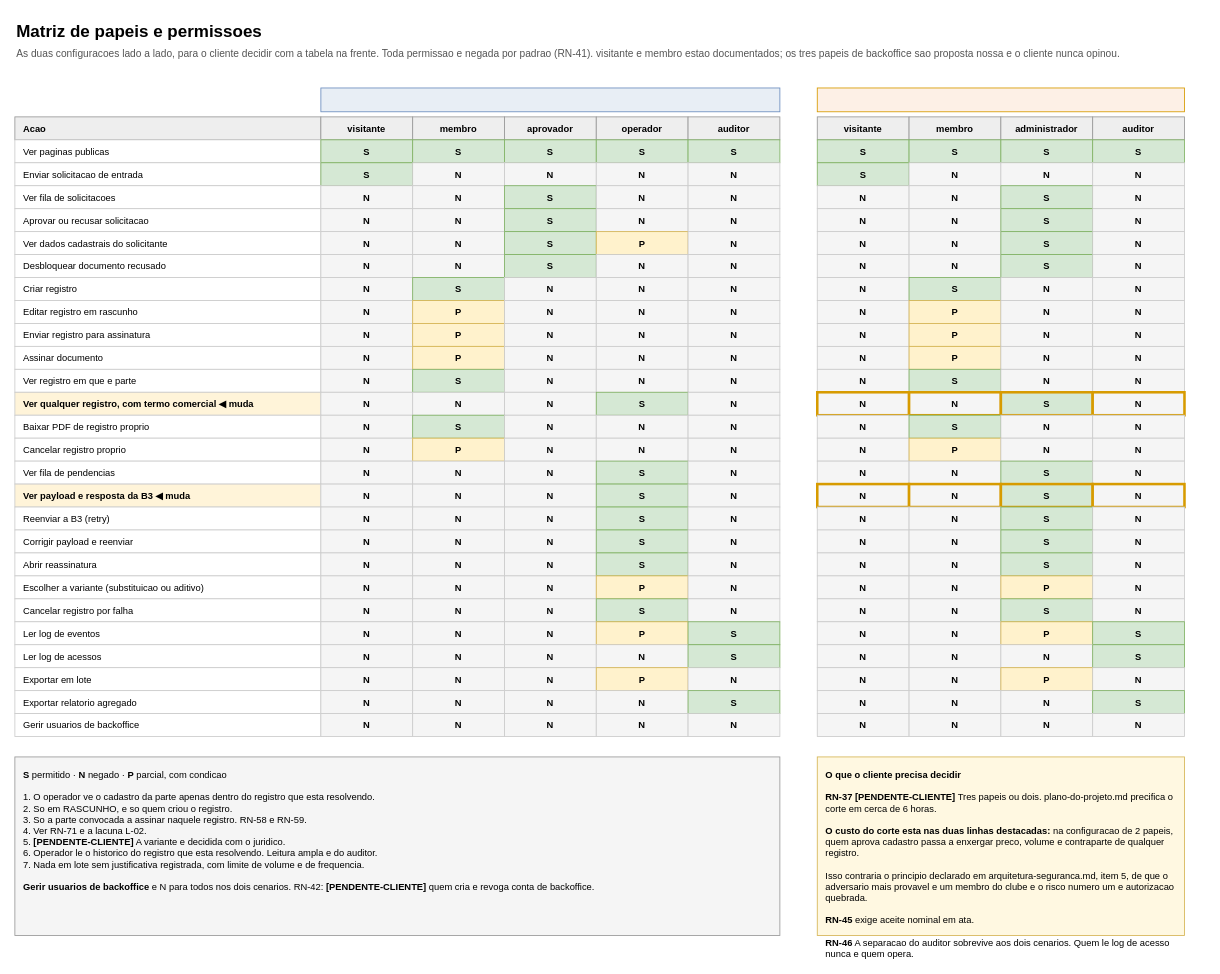
Some shapes in this 1220 by 974 pixel diagram are drawn without their labels. The box of each missing label's shape, as (x1, y1, x2, y2) in pixels:
Configuracao de 2 papeis (alavanca de corte): (816, 87, 1184, 112)
Configuracao de 3 papeis (proposta): (320, 87, 780, 112)
